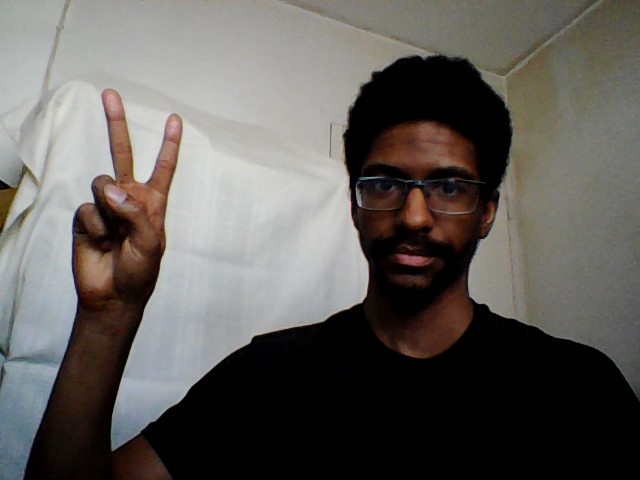v: (66, 83, 188, 307)
